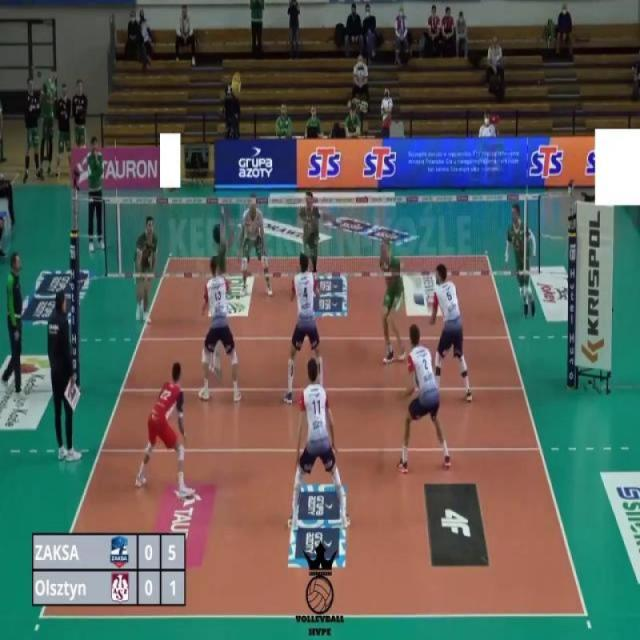volleyball: (231, 70, 243, 101)
